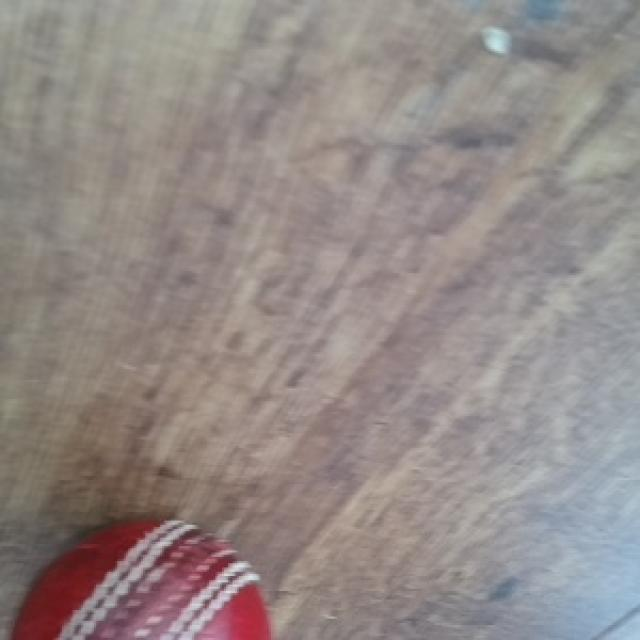ball: (9, 521, 273, 640)
